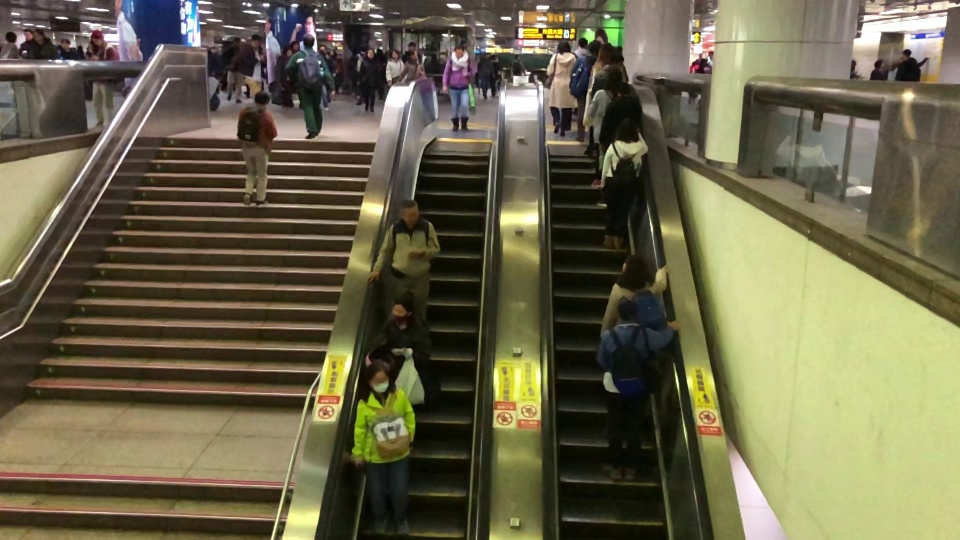person_head: (364, 355, 392, 397), (389, 291, 416, 325), (621, 254, 648, 282), (613, 117, 639, 145), (615, 293, 639, 321), (399, 197, 419, 223), (604, 66, 623, 88), (253, 89, 271, 110), (605, 52, 625, 70), (598, 41, 612, 63), (616, 81, 632, 98), (587, 40, 602, 57), (302, 33, 316, 50), (90, 30, 104, 46), (556, 40, 571, 54), (453, 42, 465, 58), (33, 27, 45, 42), (4, 30, 17, 43), (250, 34, 261, 49), (289, 40, 300, 53), (577, 36, 588, 49), (874, 57, 885, 69), (901, 47, 912, 59), (389, 48, 399, 61), (281, 47, 292, 58), (408, 49, 418, 60), (366, 47, 375, 59), (408, 42, 416, 51)
person_vbox: (594, 292, 681, 481), (350, 357, 415, 537), (367, 197, 440, 325), (601, 253, 669, 354), (600, 117, 649, 249), (597, 81, 642, 207), (285, 33, 335, 140), (581, 43, 626, 158), (234, 91, 278, 207), (373, 288, 431, 365), (588, 71, 622, 188), (86, 27, 120, 126), (545, 41, 578, 137), (571, 41, 602, 141), (441, 41, 475, 131), (237, 33, 265, 103), (589, 54, 625, 99), (357, 46, 378, 112), (894, 47, 929, 82), (276, 47, 294, 109), (26, 29, 59, 59), (384, 47, 407, 87), (396, 50, 425, 80), (0, 30, 19, 59), (870, 57, 889, 81)
